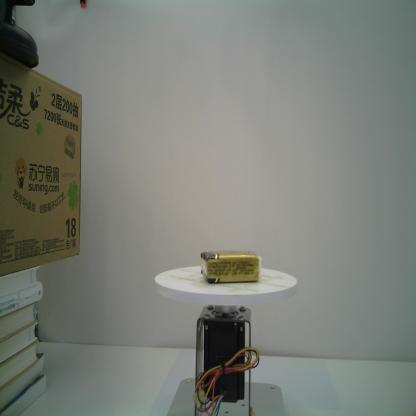Tissue: (198, 249, 264, 285)
